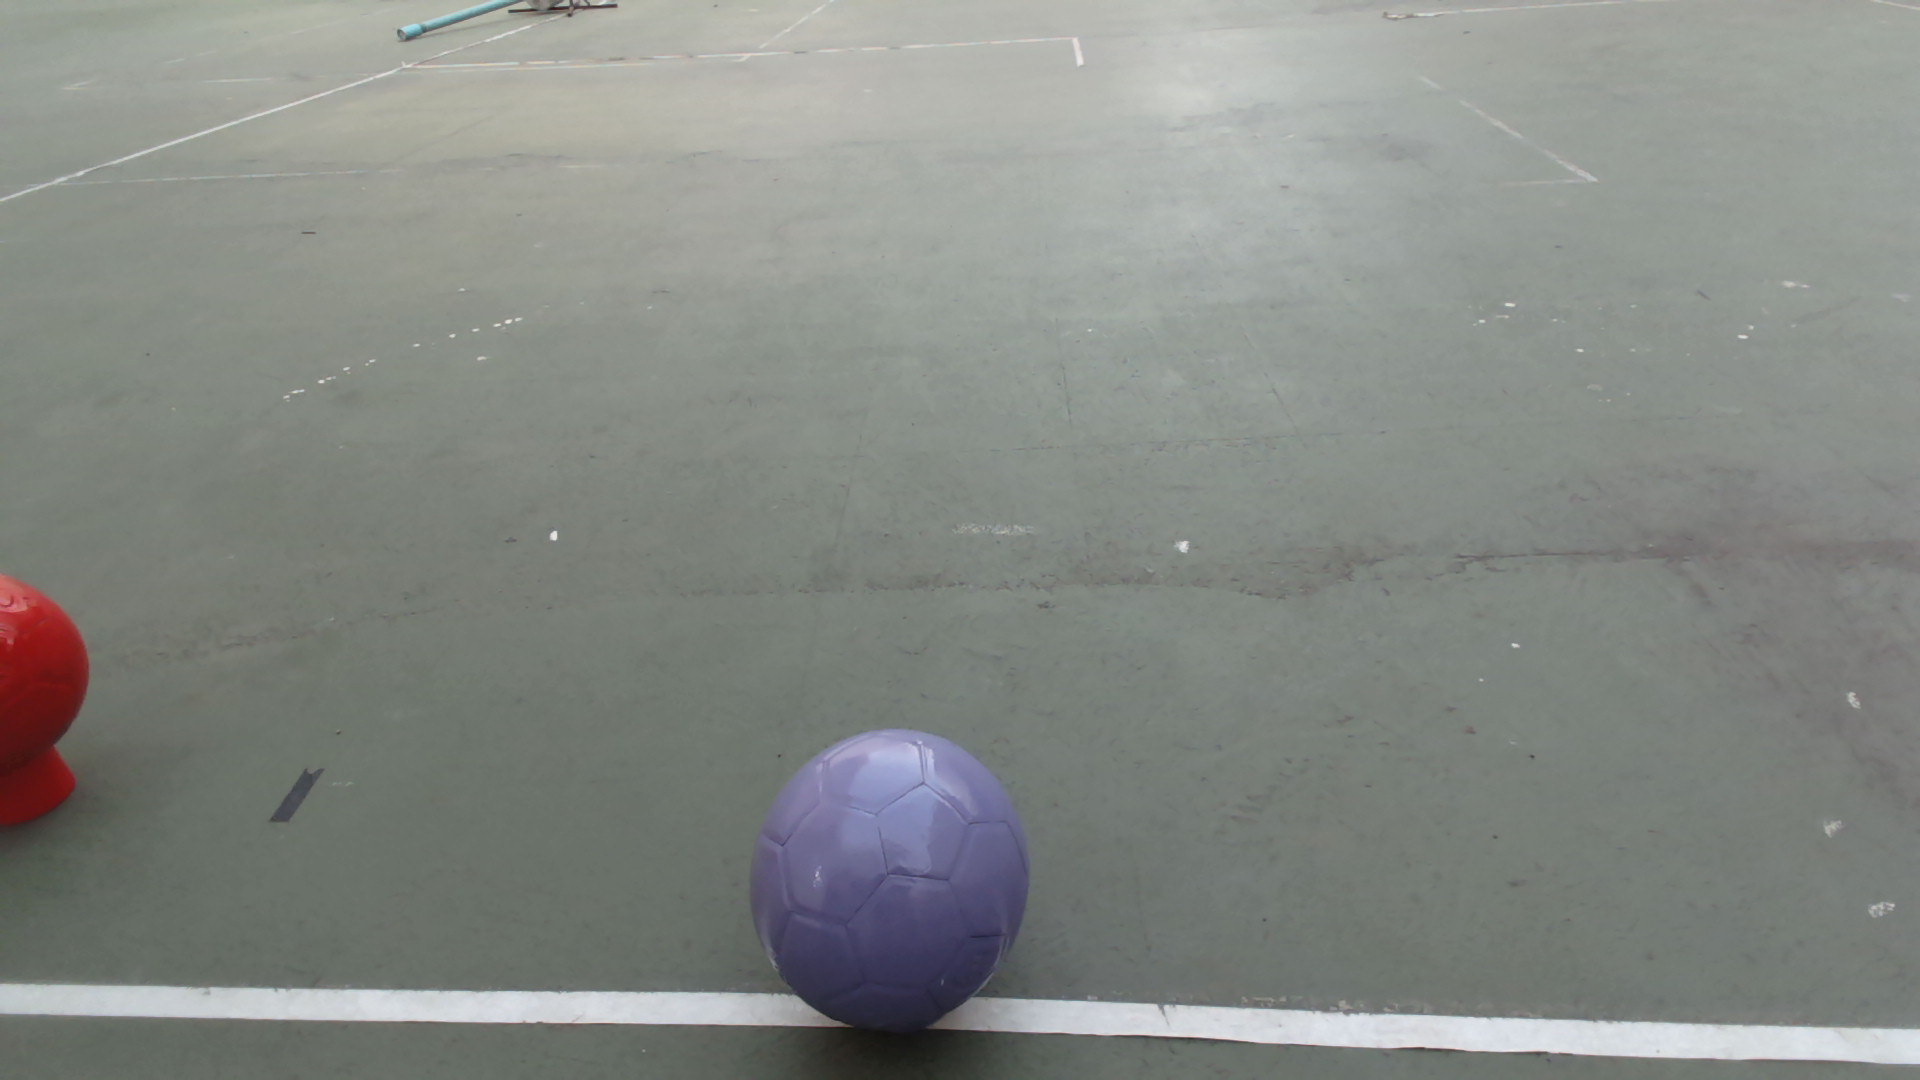Purple ball: (746, 725, 1034, 1035)
Red ball: (1, 567, 94, 783)
